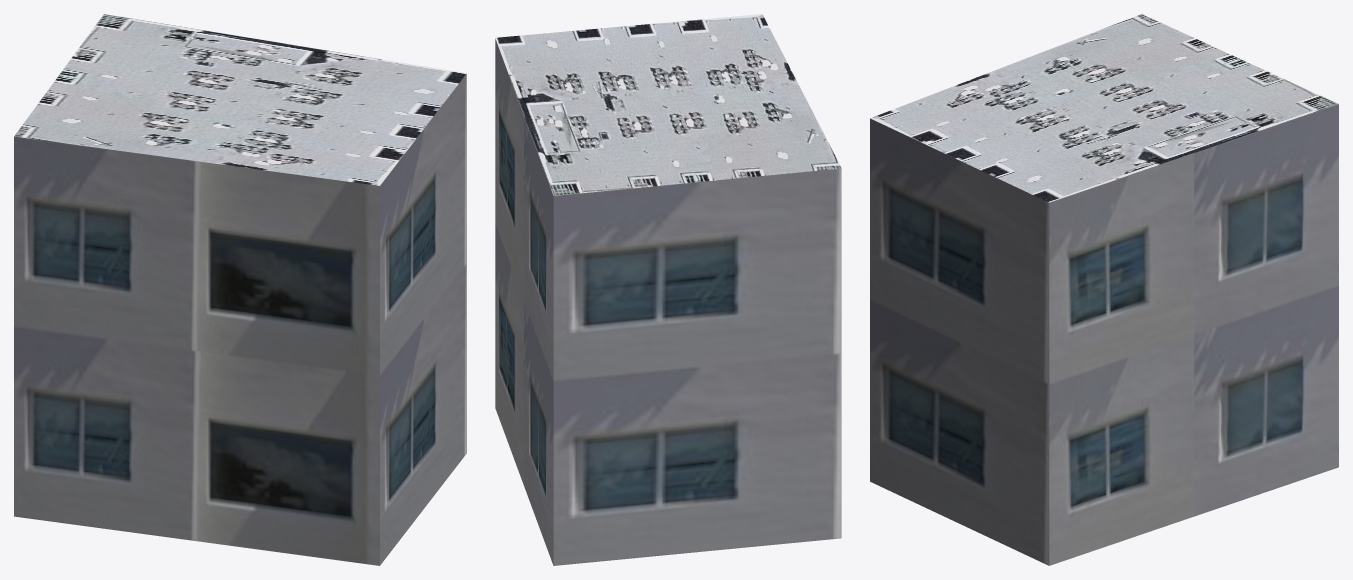
The model's file is ResTex__1582.fbx.
The picture shows the model from 3 angles, left to right: view 1: azimuth 30°, elevation 25°; view 2: azimuth 150°, elevation 25°; view 3: azimuth 270°, elevation 25°; orthographic projection. The views are drawn at different scales.
Visible parts, largest first — view 1: CityEngineMaterial_10_m, CityEngineMaterial_4_m; view 2: CityEngineMaterial_10_m, CityEngineMaterial_4_m; view 3: CityEngineMaterial_10_m, CityEngineMaterial_4_m.
Part boxes in pixels (x1,y1,x2,y2): CityEngineMaterial_10_m: [14, 73, 466, 565]; CityEngineMaterial_4_m: [14, 14, 466, 185]; CityEngineMaterial_10_m: [495, 39, 841, 565]; CityEngineMaterial_4_m: [495, 14, 841, 195]; CityEngineMaterial_10_m: [870, 104, 1338, 565]; CityEngineMaterial_4_m: [870, 14, 1338, 202].
Bounding box in the file's own units: 6.68 × 6 × 7.02.
2 materials, 2 textured.
